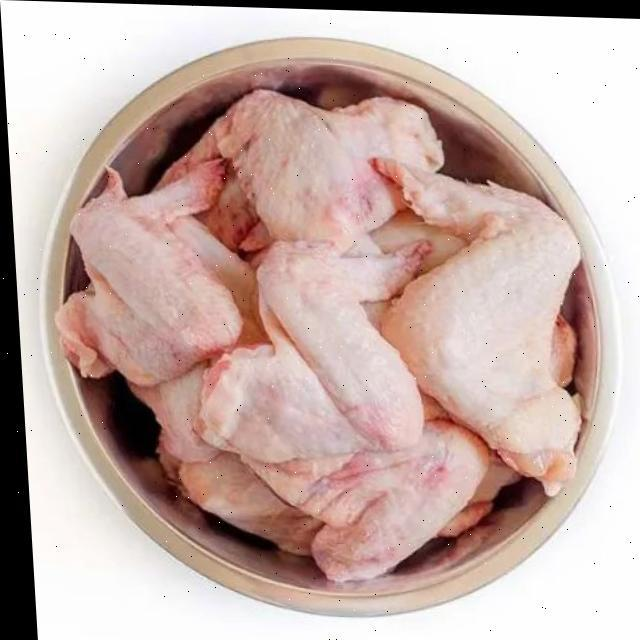wing: (363, 150, 584, 474), (186, 221, 430, 468), (149, 76, 443, 230), (31, 140, 229, 366)
